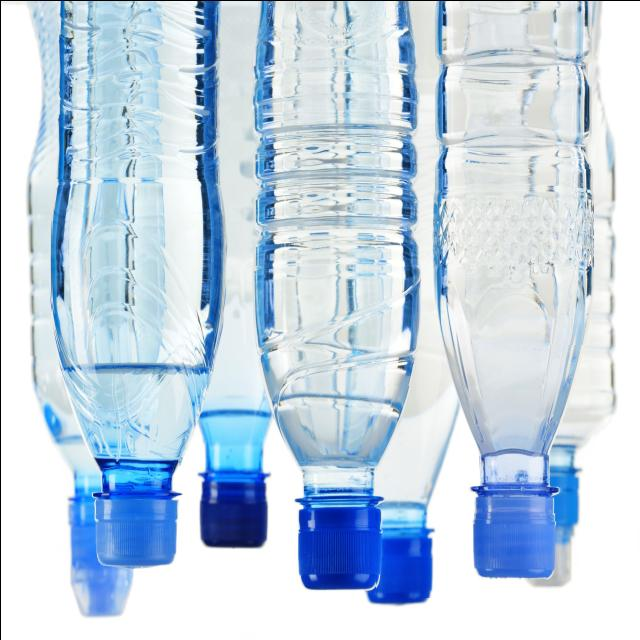neck: (51, 178, 213, 494), (435, 168, 593, 484), (254, 227, 418, 503), (375, 385, 461, 596), (545, 344, 616, 585), (194, 387, 273, 547), (27, 355, 99, 500)
